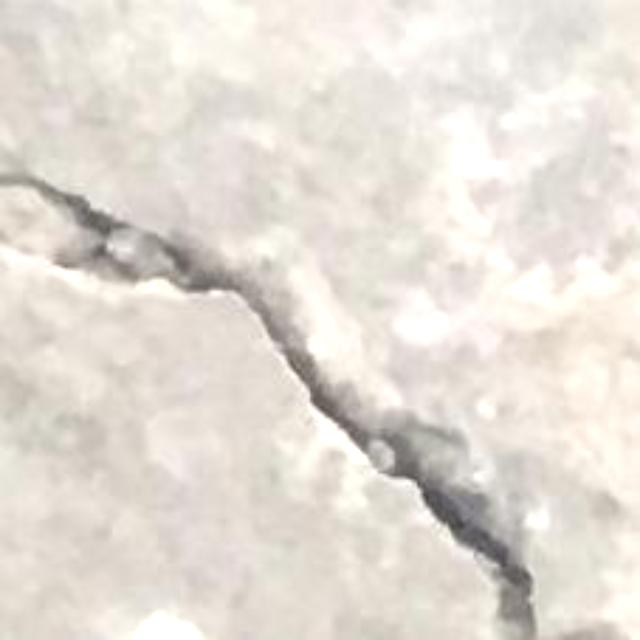crack: (0, 172, 535, 639)
